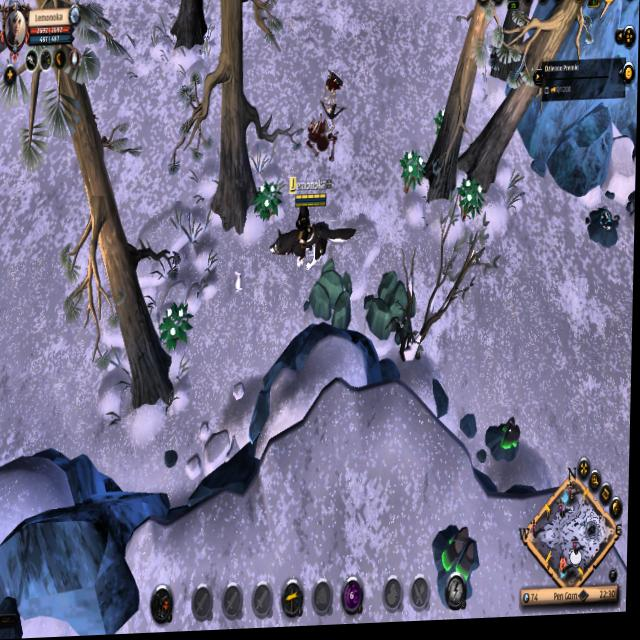fiber tier 3: (160, 300, 196, 355), (456, 176, 486, 233), (254, 179, 287, 227), (398, 151, 426, 205)
ore tier 3: (492, 414, 524, 474)
rock tier 3: (363, 269, 418, 352), (309, 259, 356, 337)
